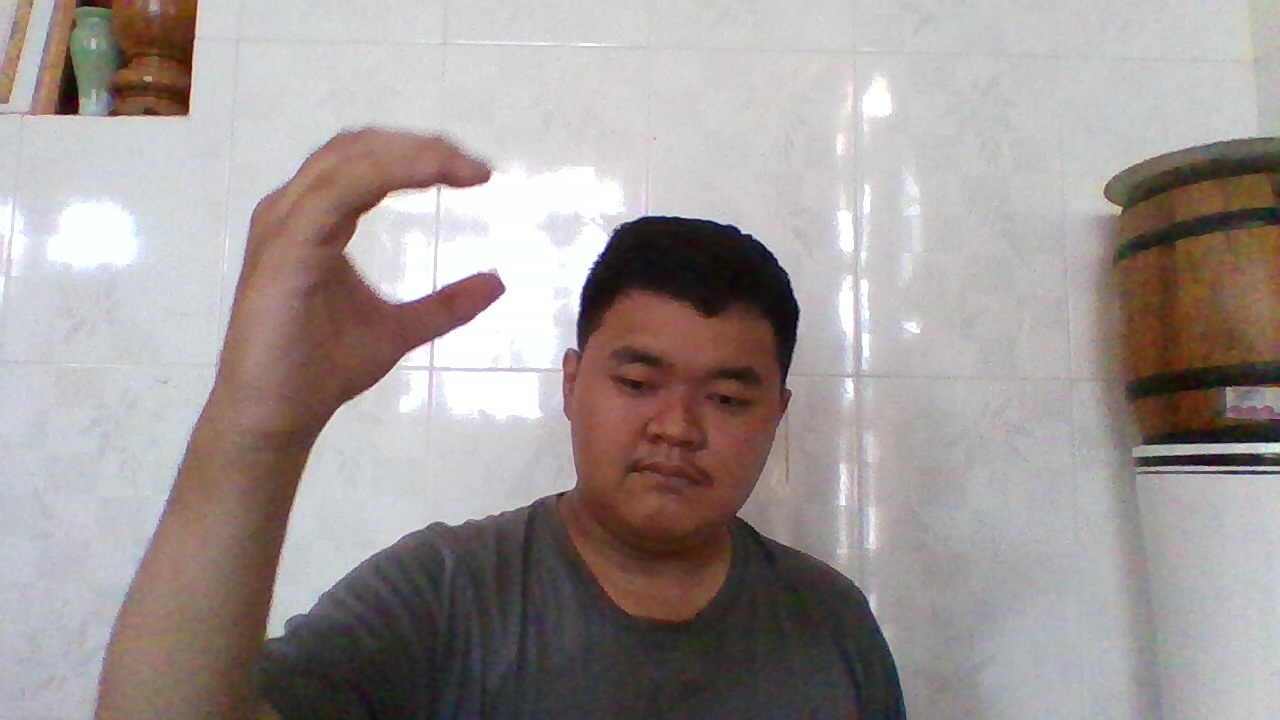C: (247, 126, 503, 448)
